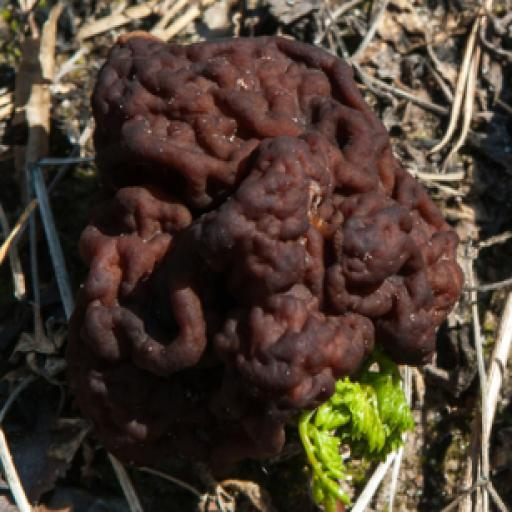mushroom: (78, 36, 459, 442)
